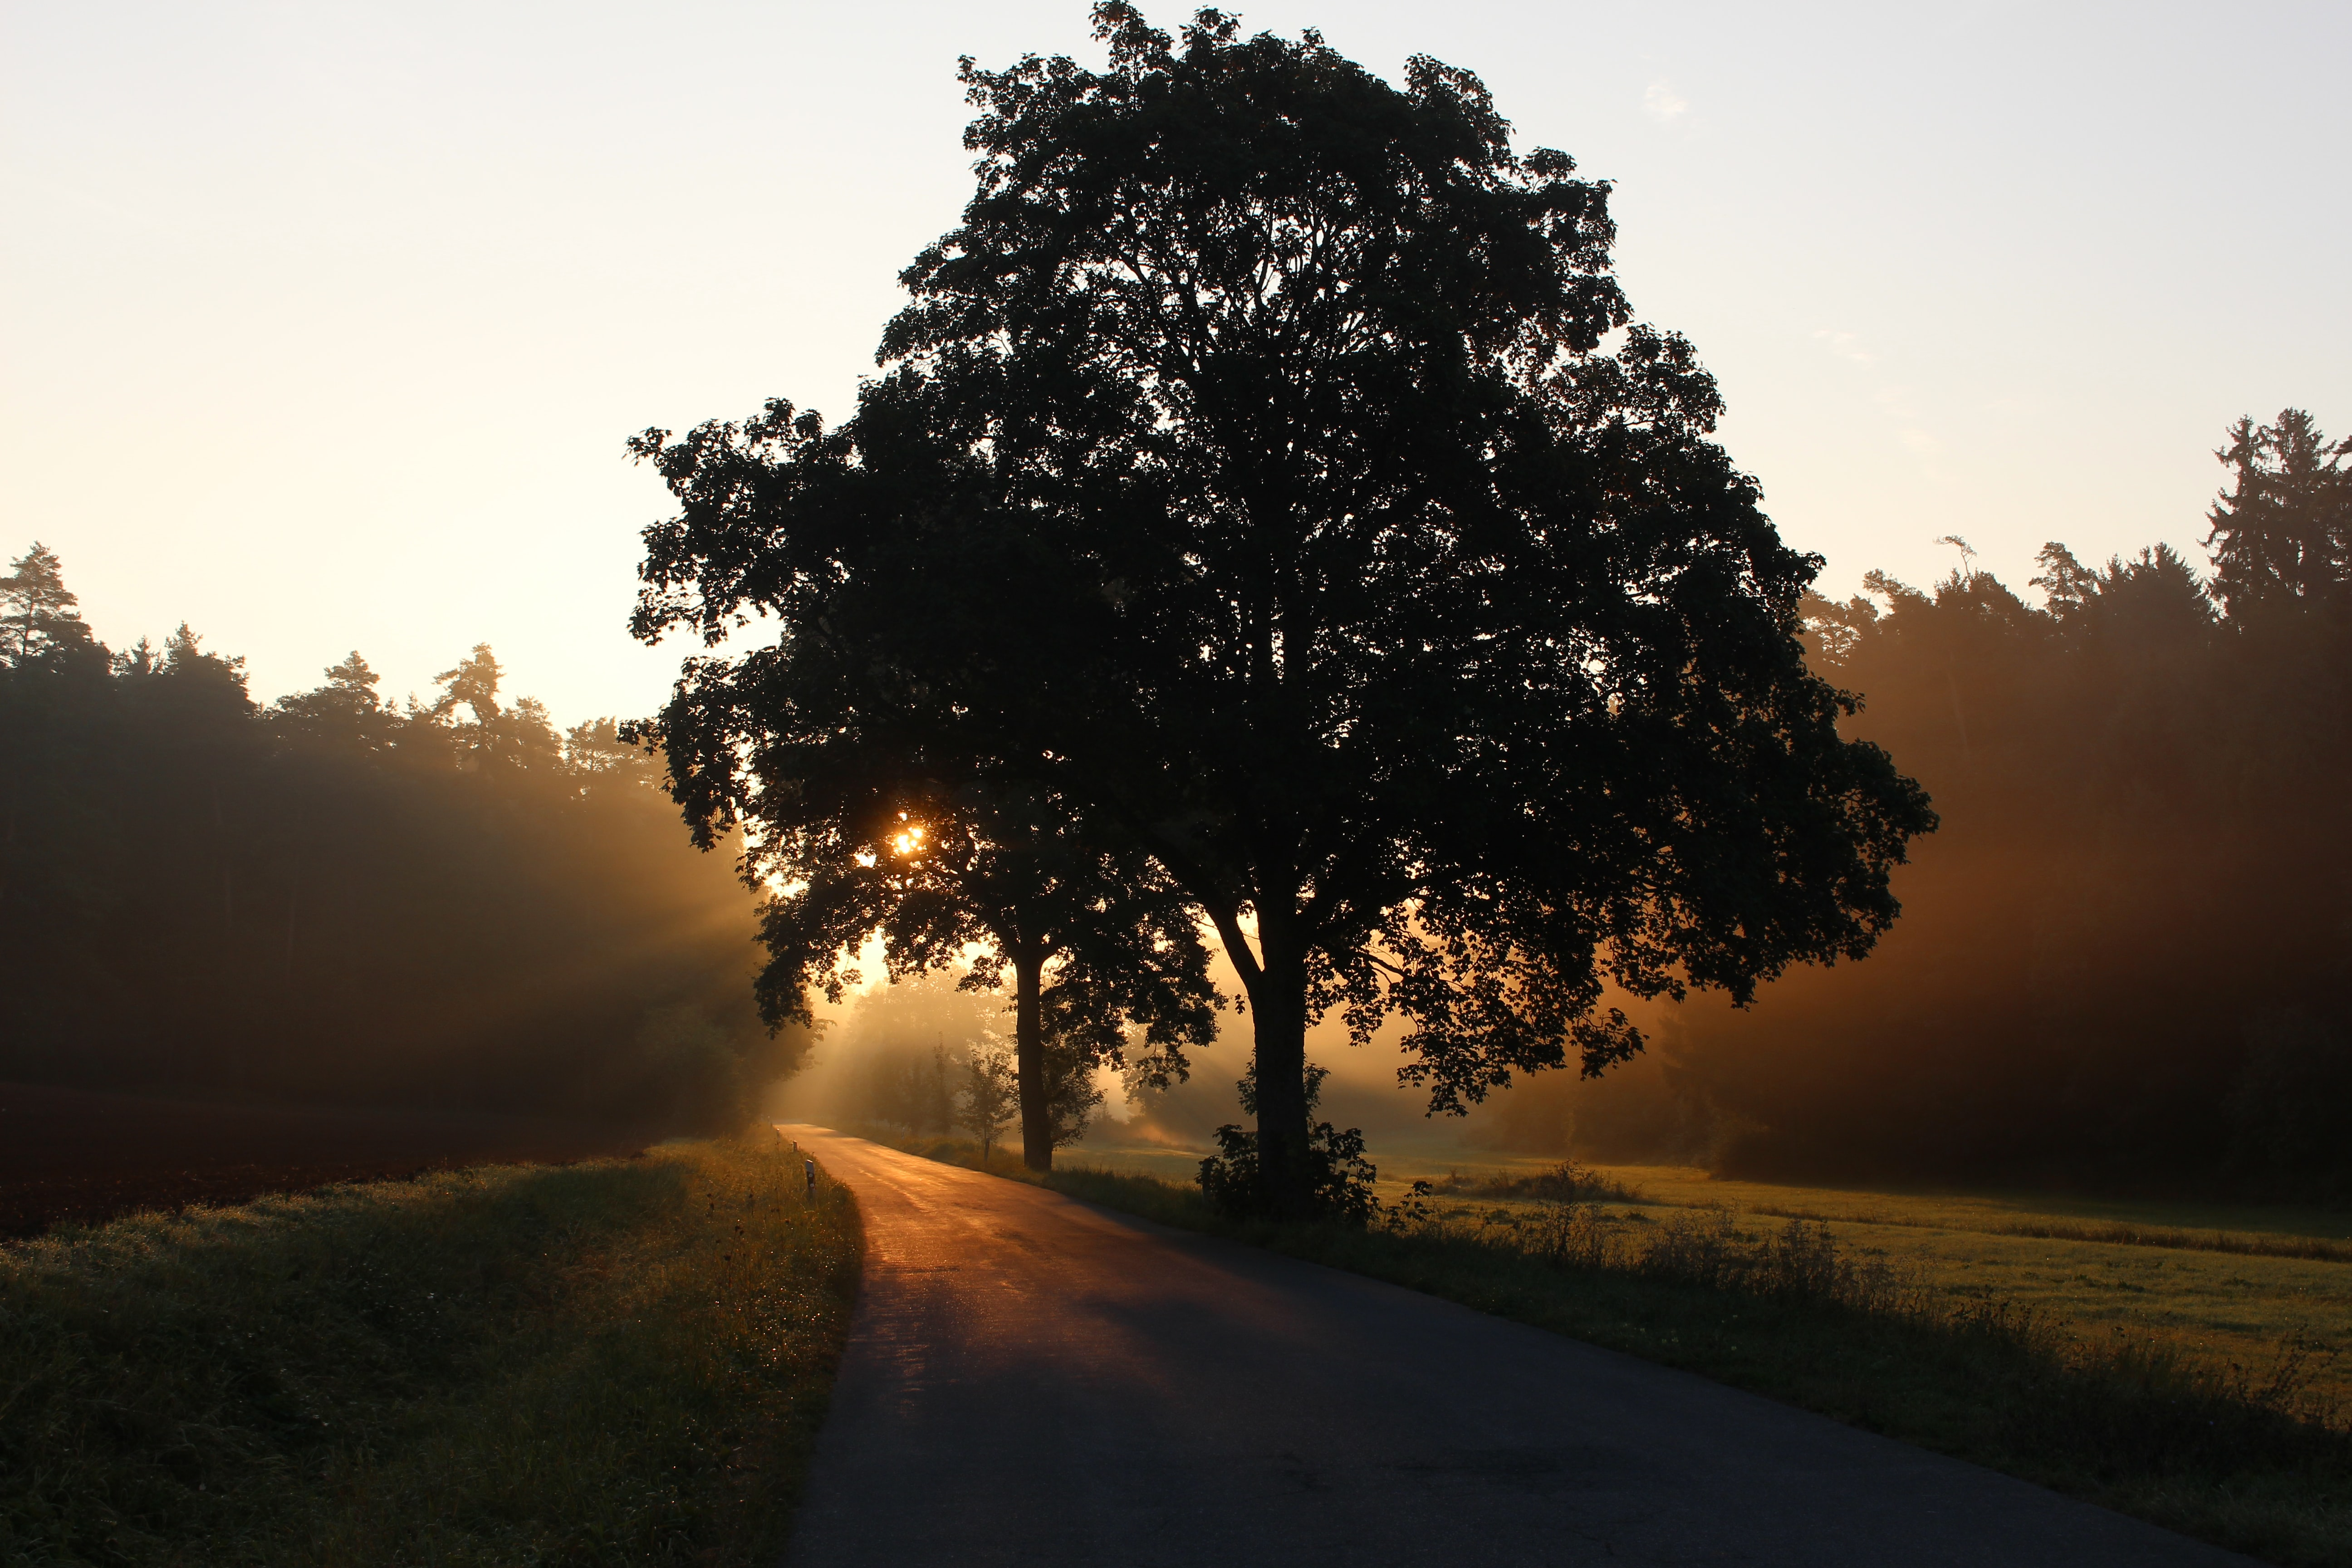tree: (620, 0, 1944, 1174)
